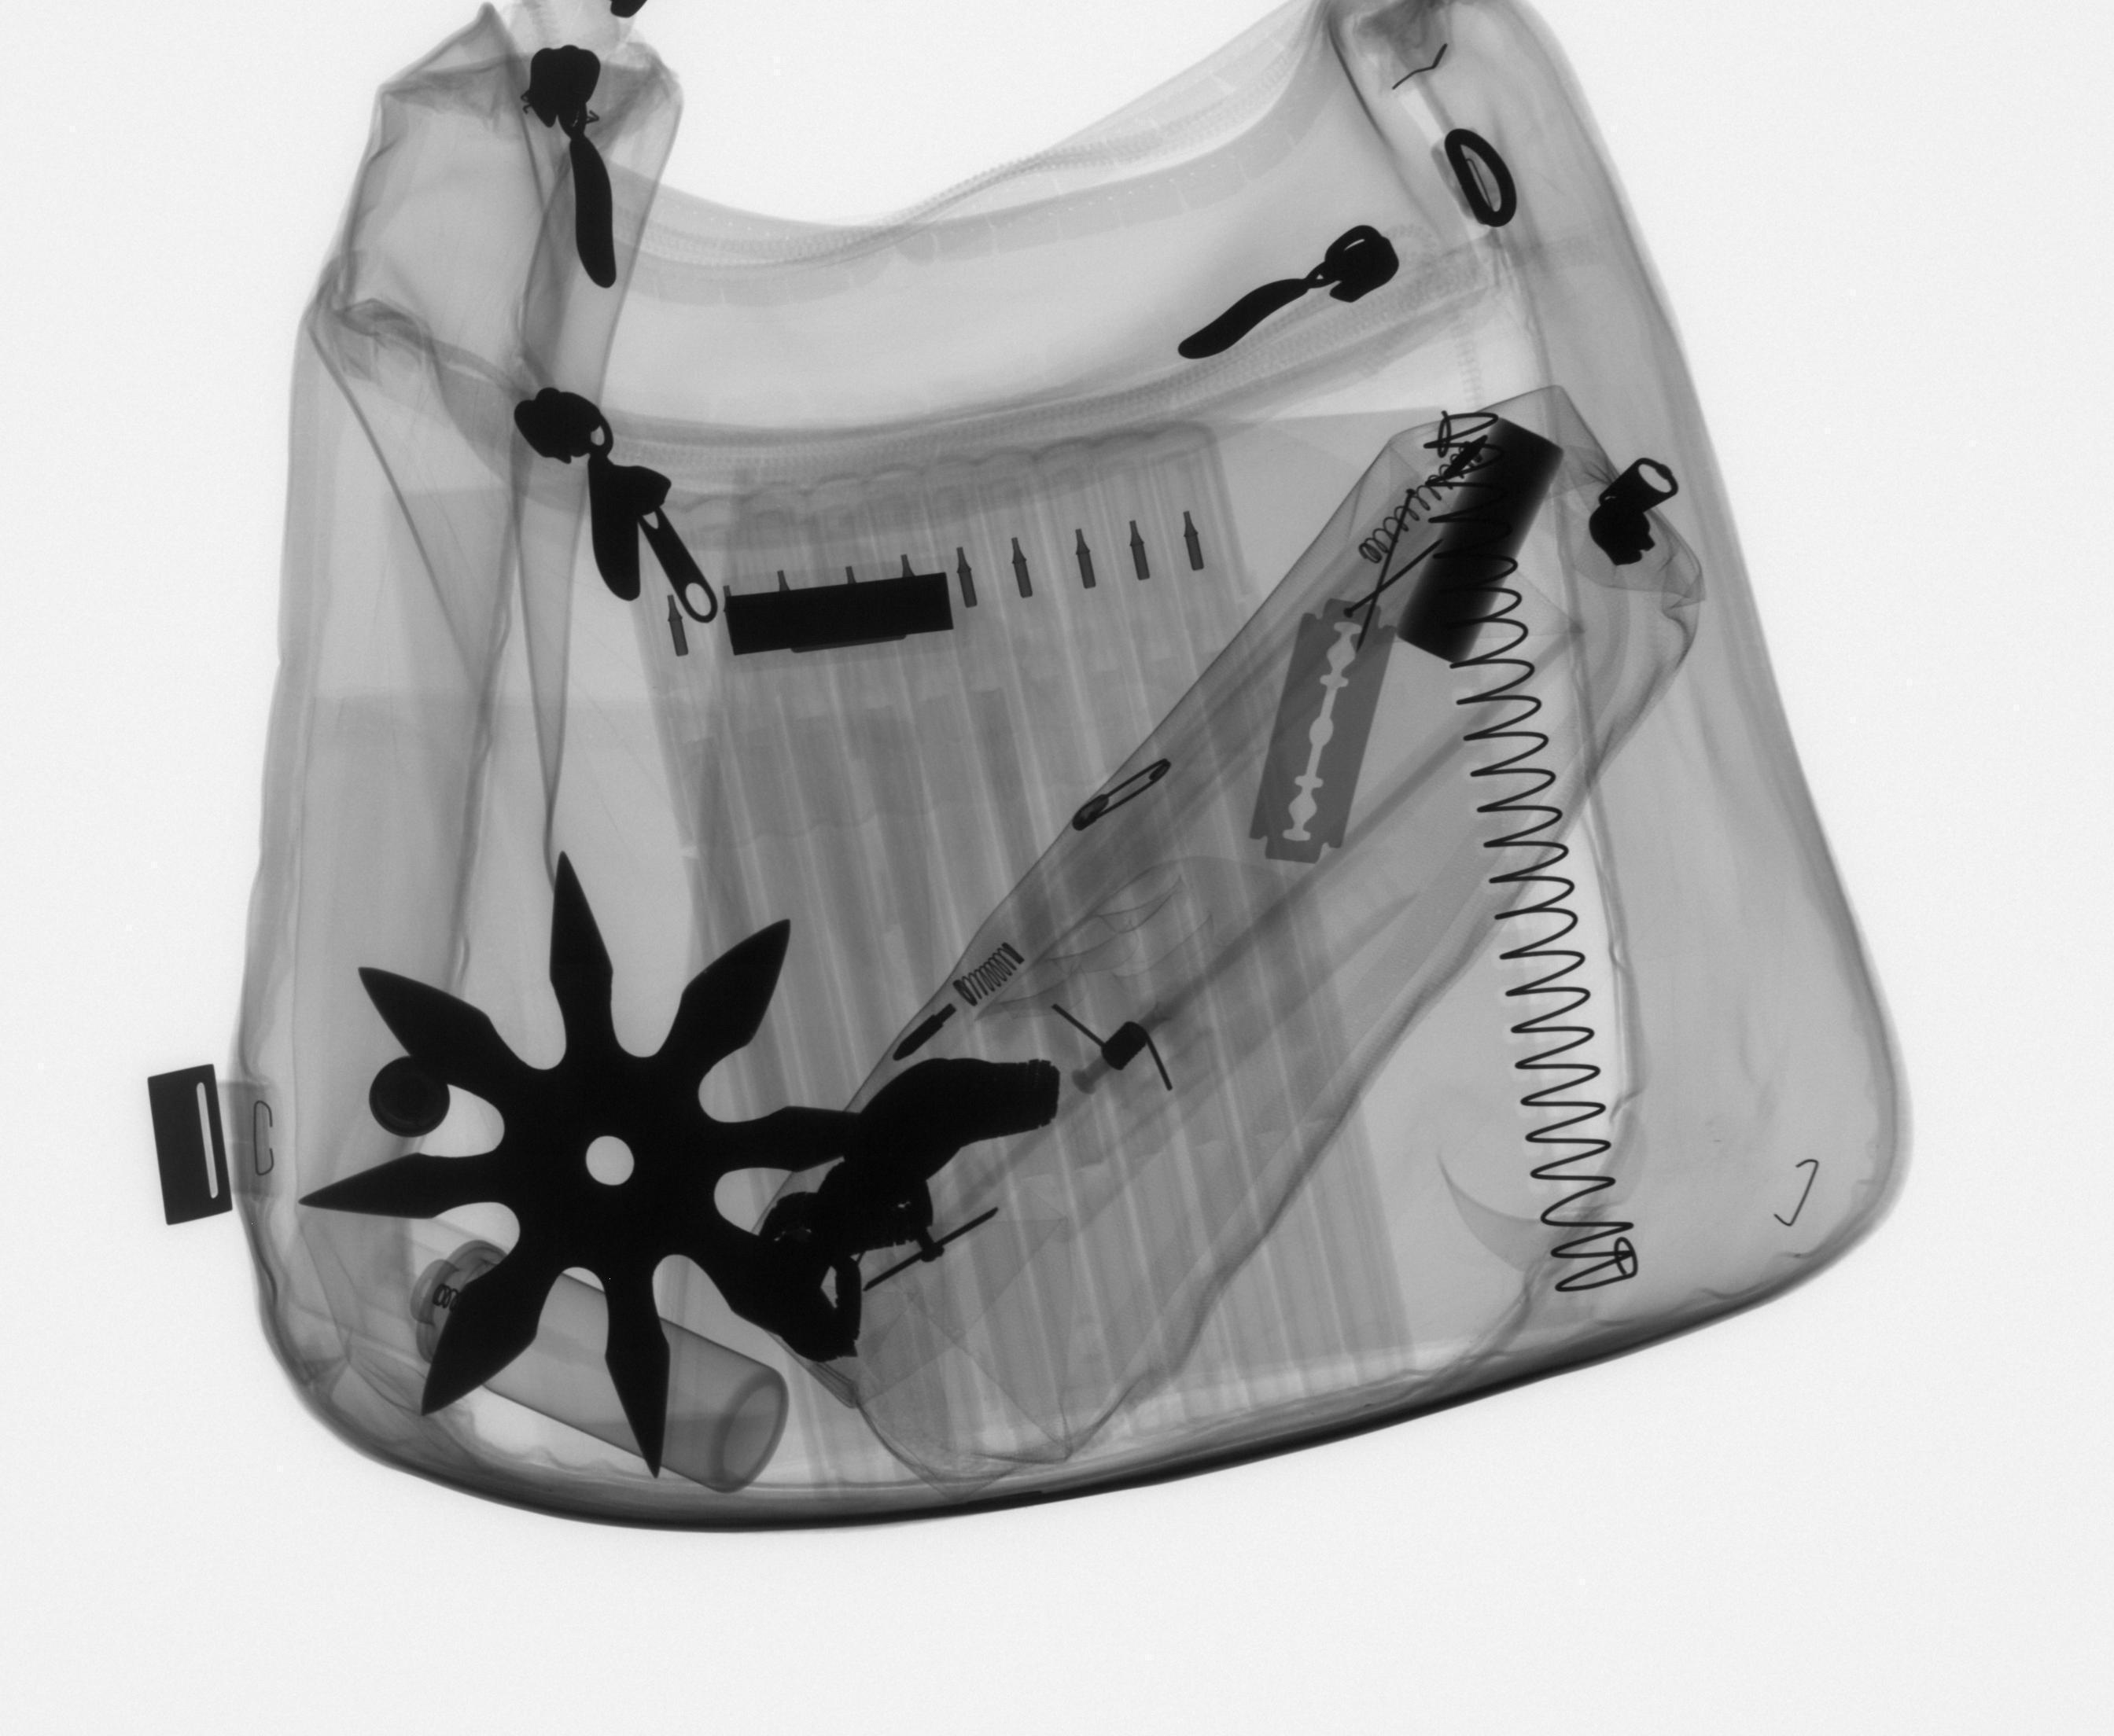RazorBlade: (1241, 593, 1405, 871)
Shuriken: (290, 844, 927, 1494)
